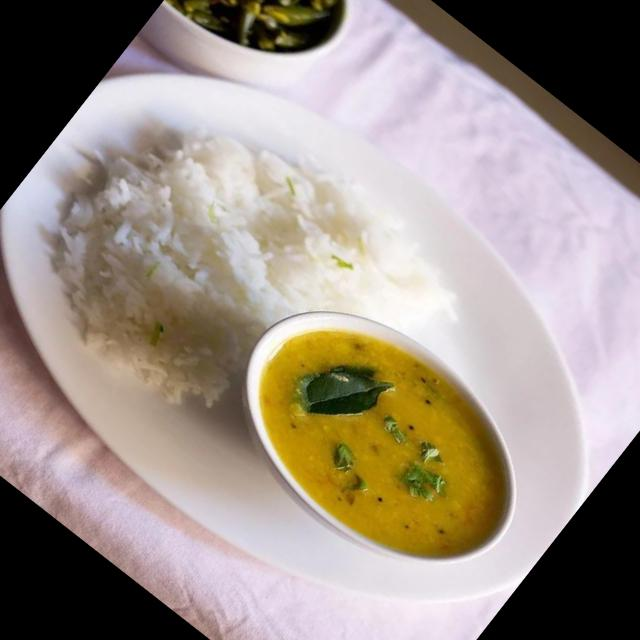dal: (260, 336, 502, 560)
rice: (53, 128, 464, 417)
